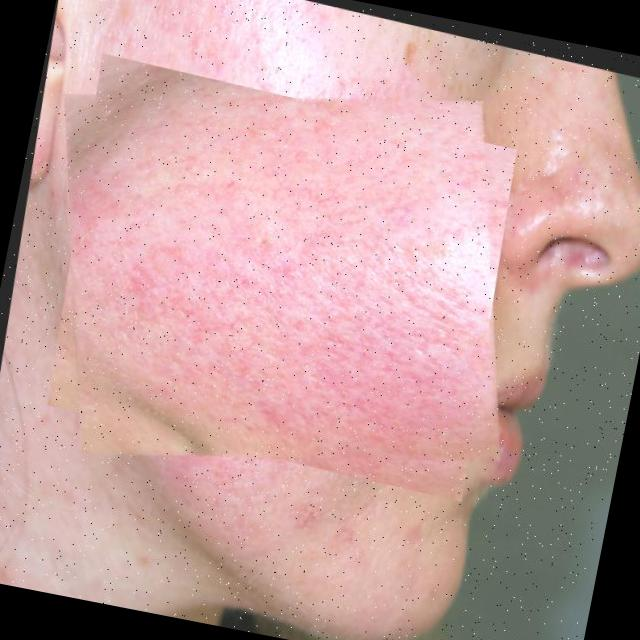redness: (66, 96, 494, 455)
